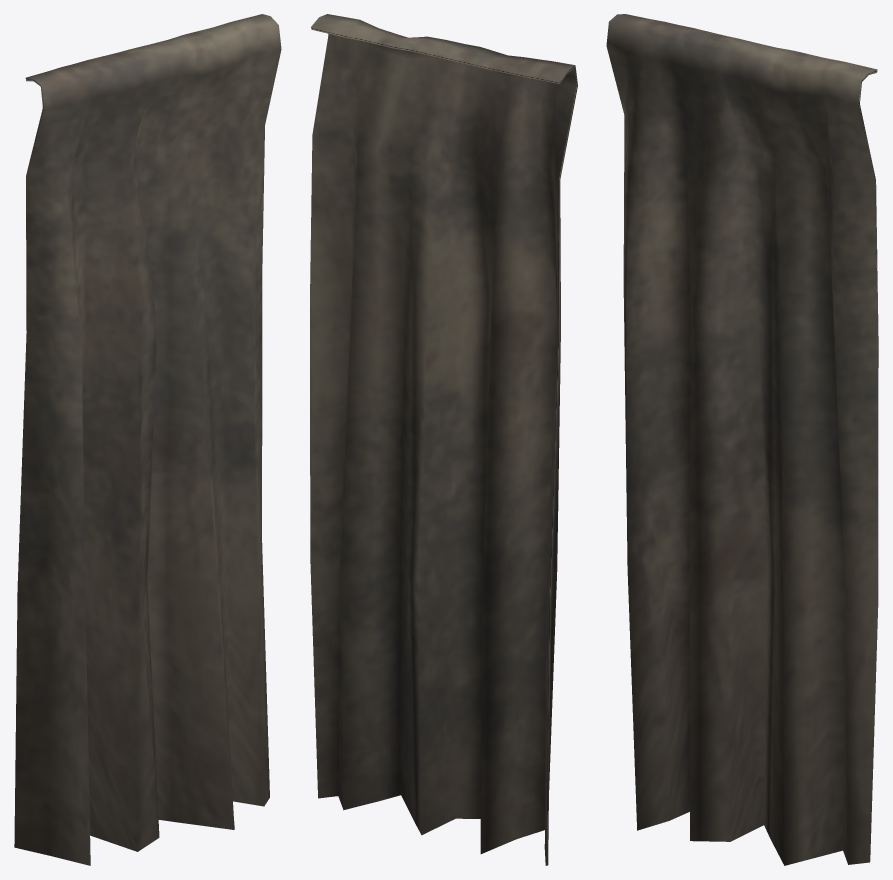
File: SM_Curtain_A.fbx
3 views of the same model, side by side, from view 1: azimuth 30°, elevation 25°; view 2: azimuth 150°, elevation 25°; view 3: azimuth 330°, elevation 25° (orthographic).
Parts seen in each view (by area): view 1: SM_Curtain_A; view 2: SM_Curtain_A; view 3: SM_Curtain_A.
Boxes of the visible parts, bbox=[...] form: SM_Curtain_A: bbox=[14, 14, 281, 865]; SM_Curtain_A: bbox=[310, 14, 577, 865]; SM_Curtain_A: bbox=[606, 14, 878, 865].
Size of the model in its own units: 0.3707 by 0.1212 by 1.14.
